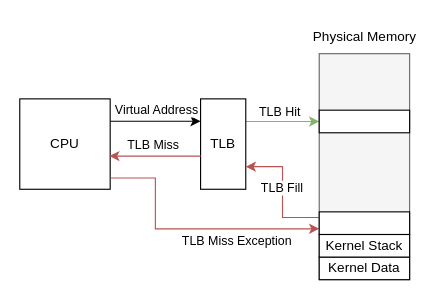
This 446x299 diagram has some shape labels left out. The shapes that lost their labels are listed below. From the top down, each one's box as (x1, y1, x2, y2) in pixels, then its label:
(318, 109, 410, 133): User Data
(318, 211, 410, 234): TLB Manager
